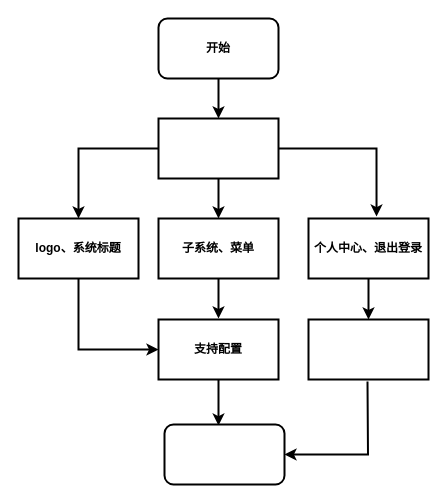
Some shapes in this 446 by 502 pixel diagram are drawn without their labels. The centre of each missing label's shape, as x and y in pixels:
支持简版展示: point (368, 349)
系统头部导航: point (218, 148)
结束: point (224, 454)
